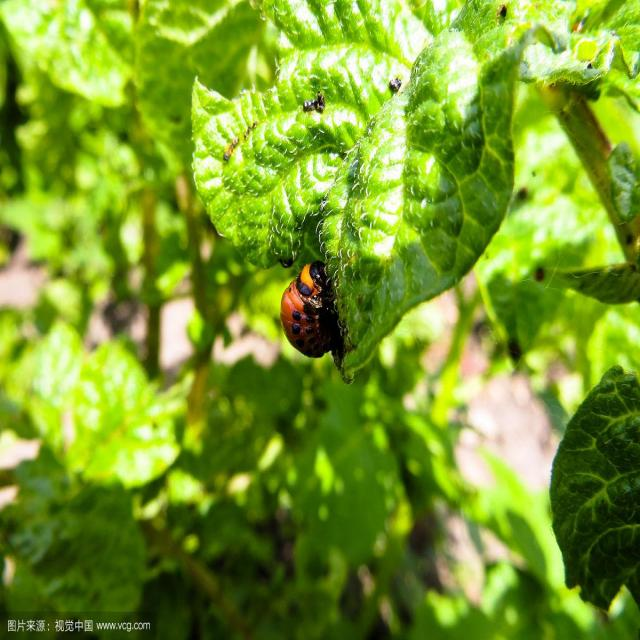ShuCaiHuaBanChong-Larva-: (277, 255, 341, 374)
